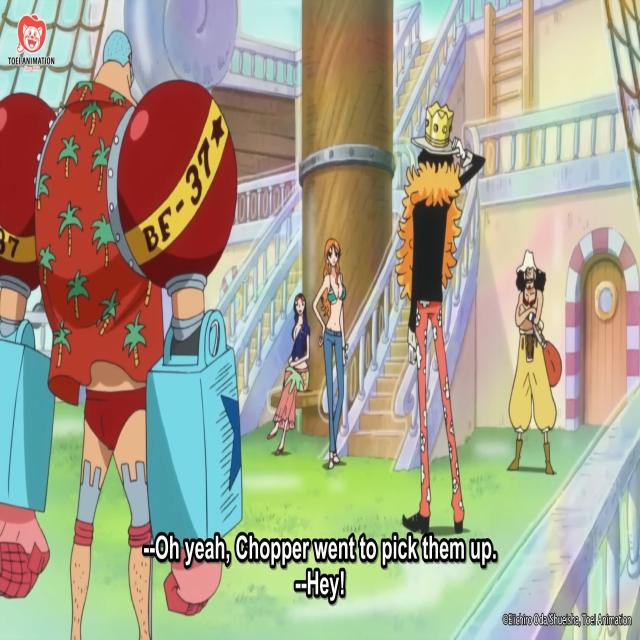Brook: (396, 102, 466, 555)
Franky: (0, 30, 241, 640)
Nami: (312, 239, 340, 476)
Robin: (271, 286, 304, 458)
Usopp: (503, 238, 554, 477)
